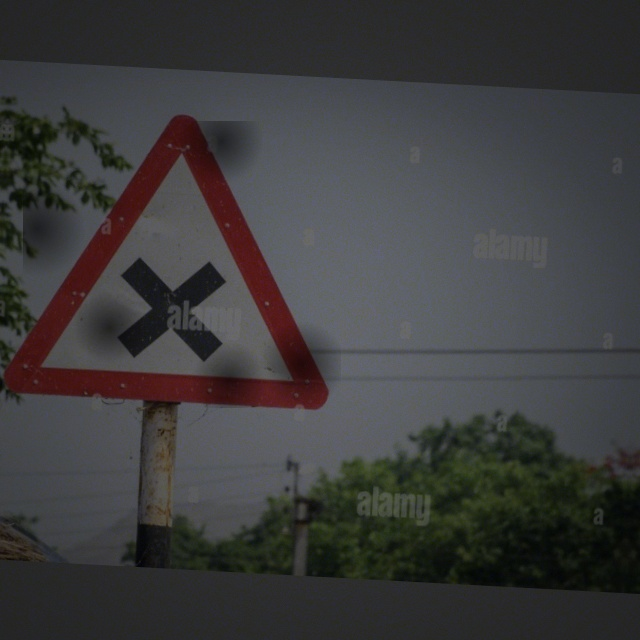Cross_Road: (23, 121, 341, 408)
